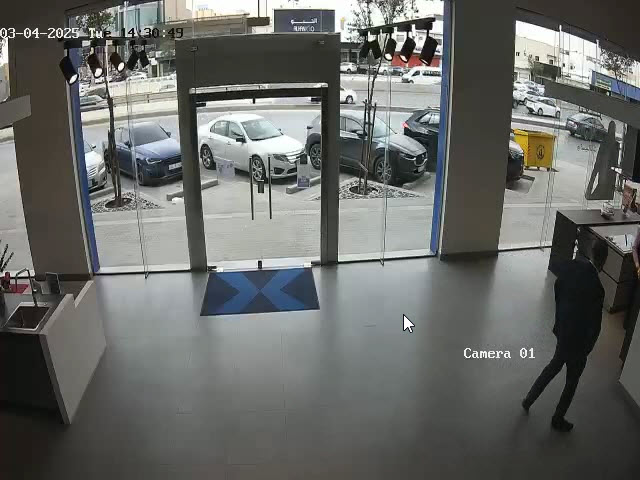employee: (522, 231, 611, 440)
